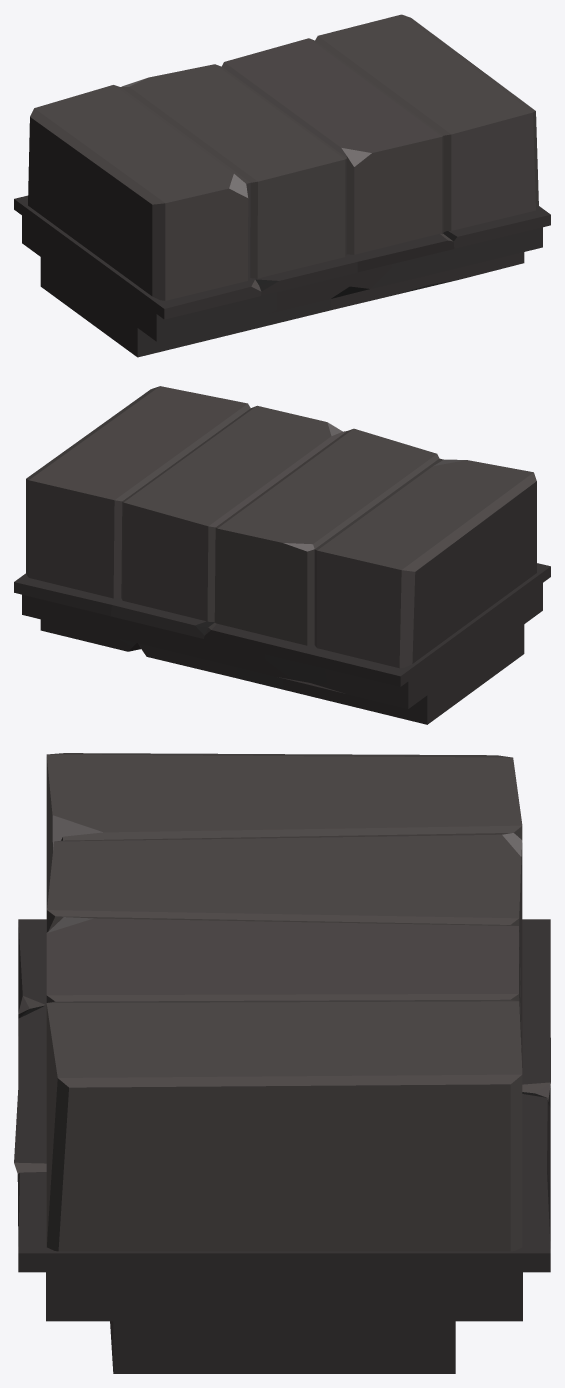
Rendered from Pillar_Top_Stones_Big_01.glb.
The picture shows the model from 3 angles, top to bottom: view 1: azimuth 30°, elevation 25°; view 2: azimuth 150°, elevation 25°; view 3: azimuth 270°, elevation 25°; orthographic projection. The views are drawn at different scales.
Visible parts, largest first — view 1: Pillar_Top_Stones_Big_01; view 2: Pillar_Top_Stones_Big_01; view 3: Pillar_Top_Stones_Big_01.
Part boxes in pixels (box(x1,y1,x2,y2)): Pillar_Top_Stones_Big_01: box(14, 14, 550, 357); Pillar_Top_Stones_Big_01: box(14, 386, 550, 724); Pillar_Top_Stones_Big_01: box(14, 753, 550, 1373).
Size of what is drawn, in the model's own units: 4 by 1.64 by 2.72.
Materials: 1 (1 with a texture image).
